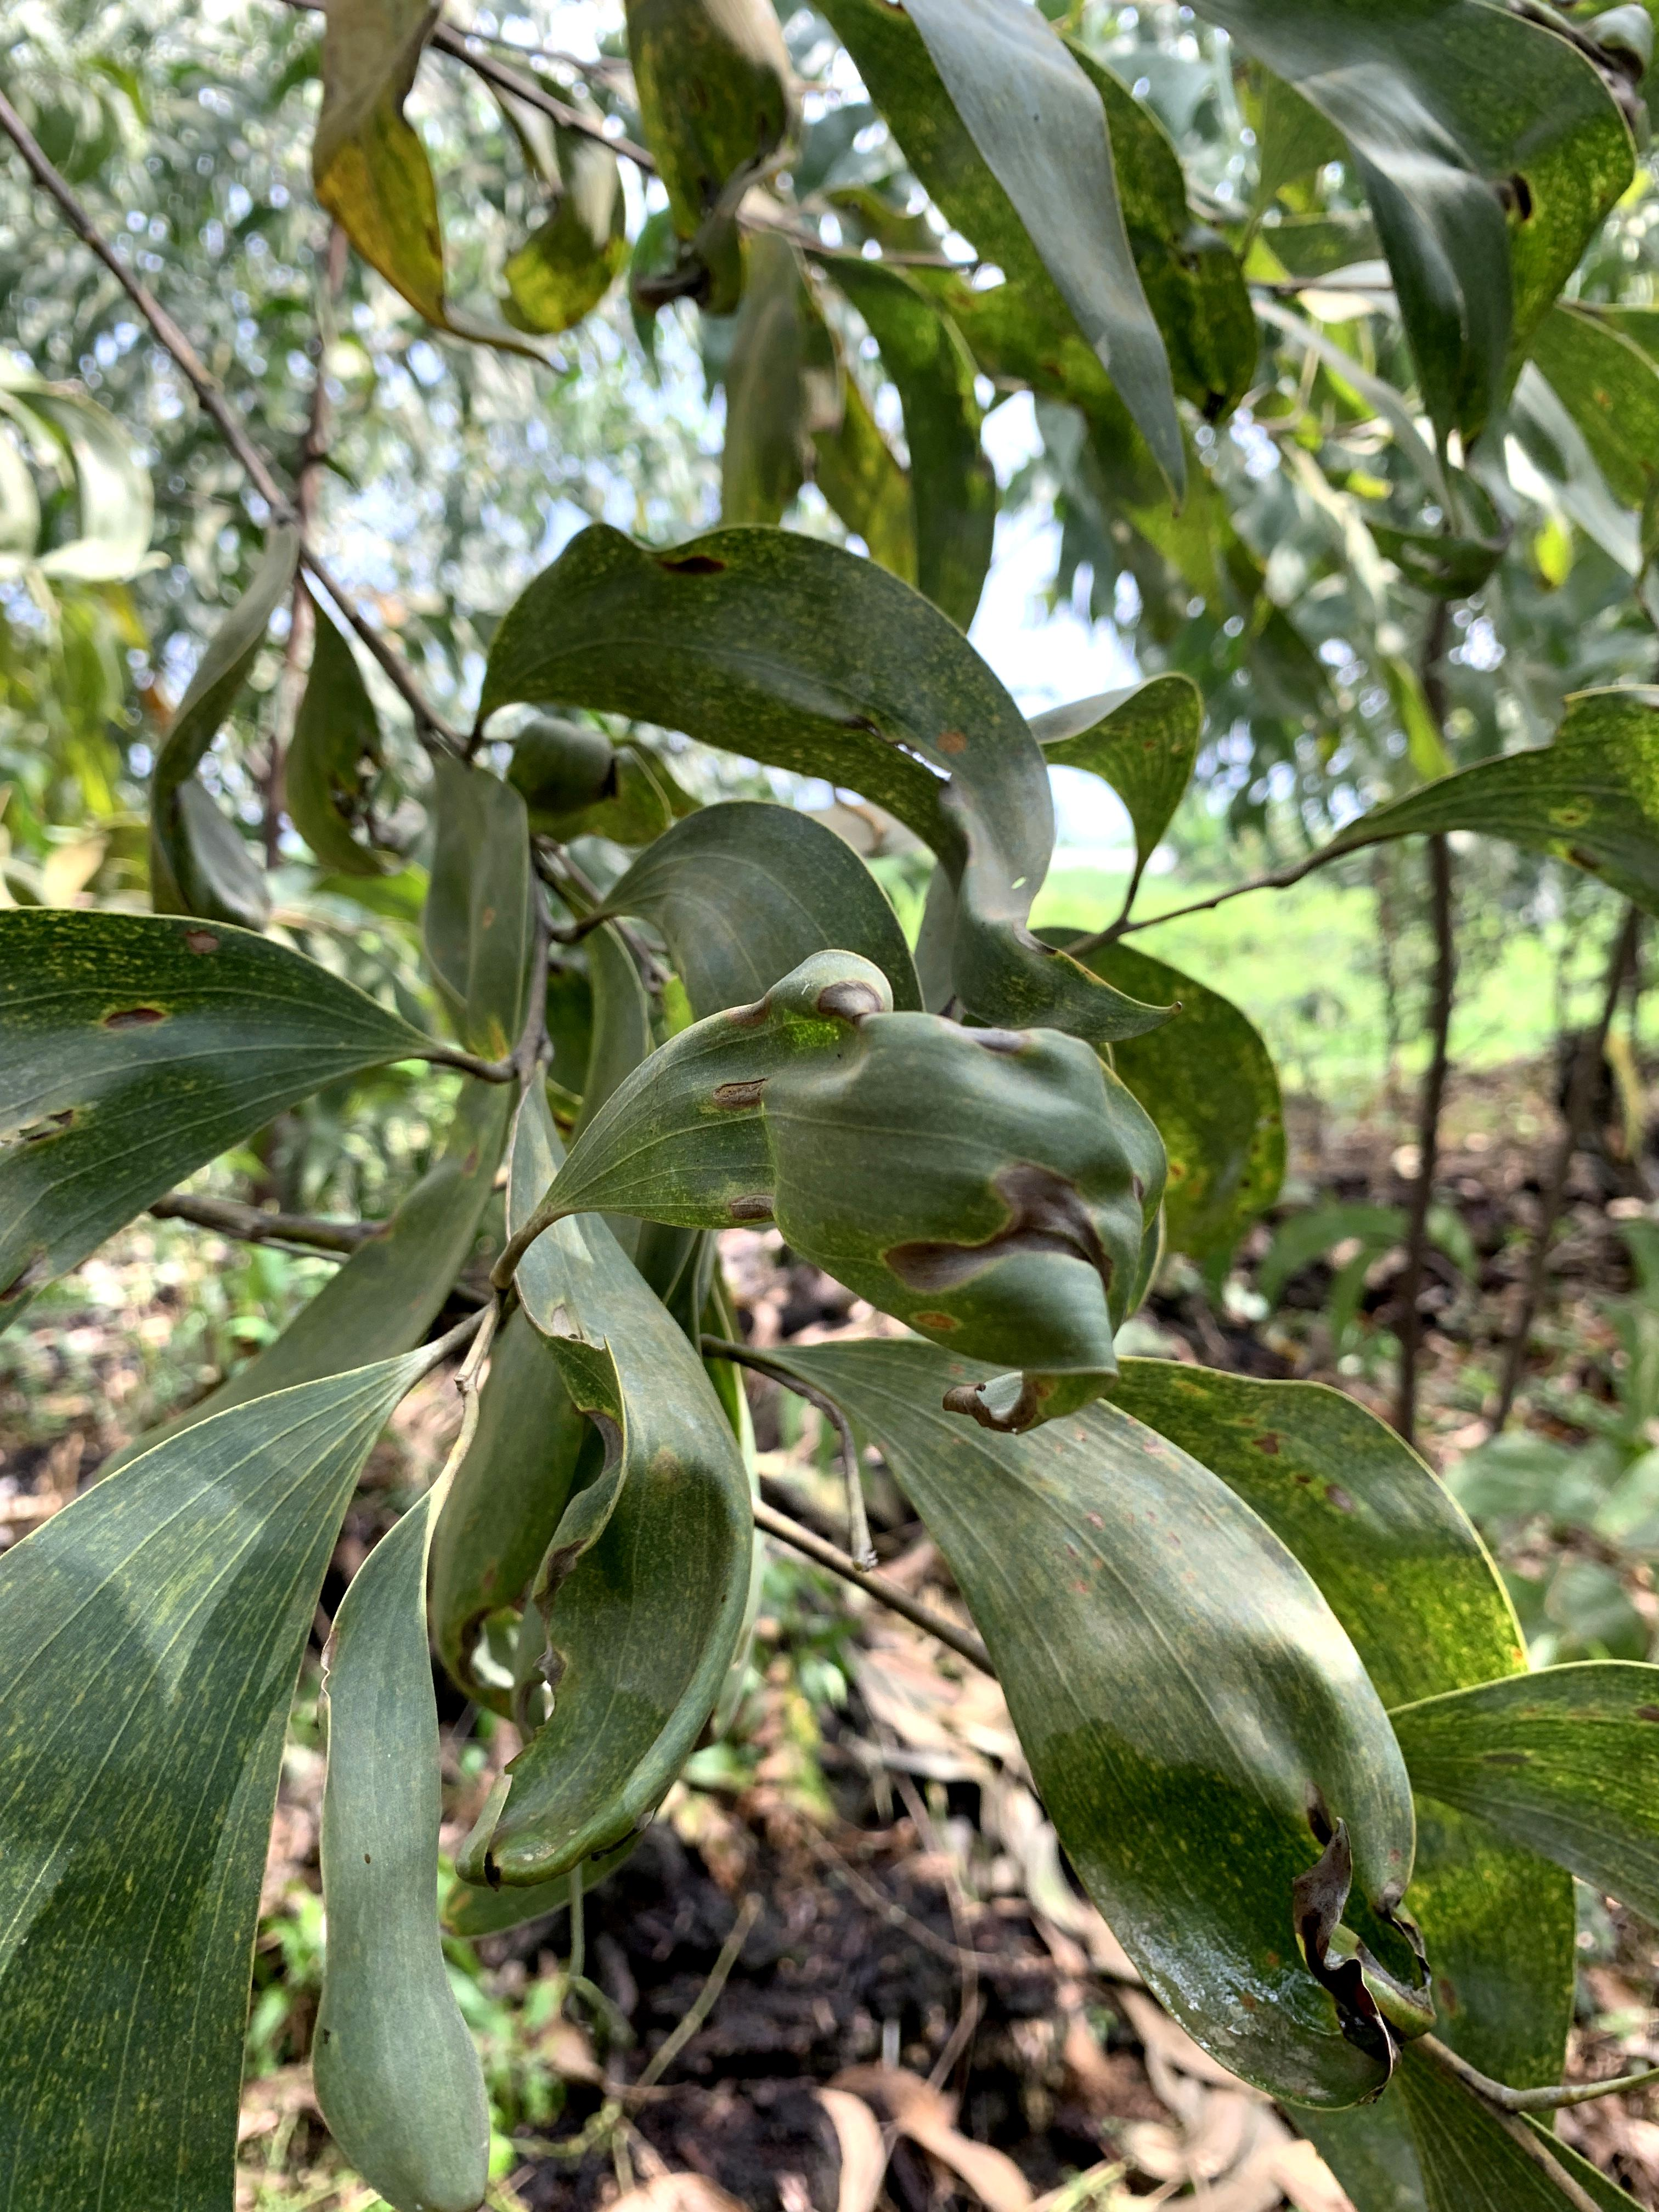Pasalora: (941, 1439, 1467, 2113), (795, 871, 1208, 1374), (467, 1198, 755, 1902)
